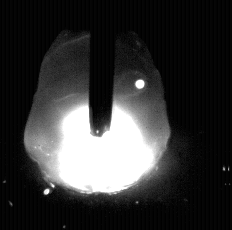arame: (91, 0, 113, 137)
poca: (23, 0, 169, 230)
